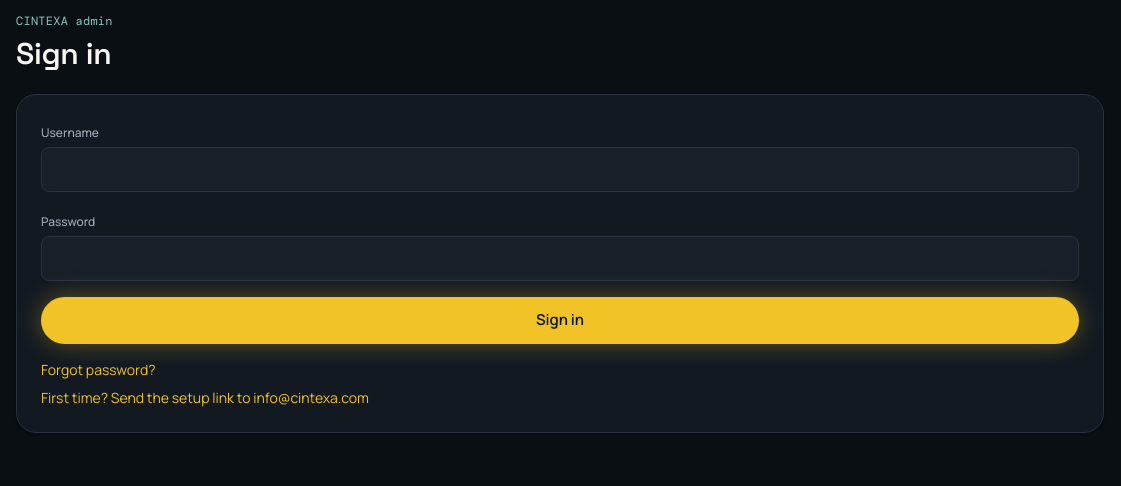
signing in › offers first-time setup only when no admin exists, and mails the link to the inbox
Step 1. Click the button "First time? Send the setup link to info@cintexa.com" → click(205, 397), box [41,388,1079,408]
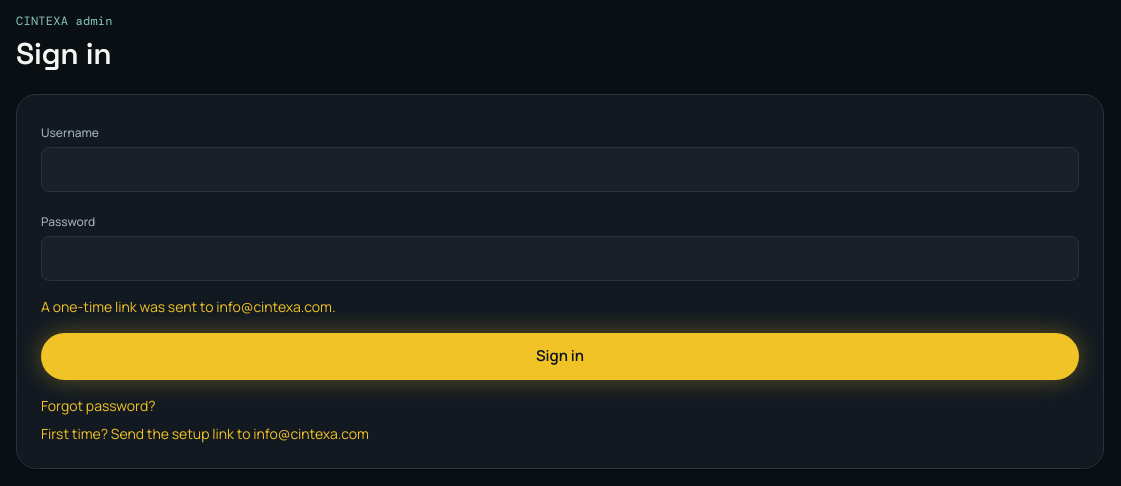
Now the message shows "info@cintexa.com", box [41,297,336,316]
